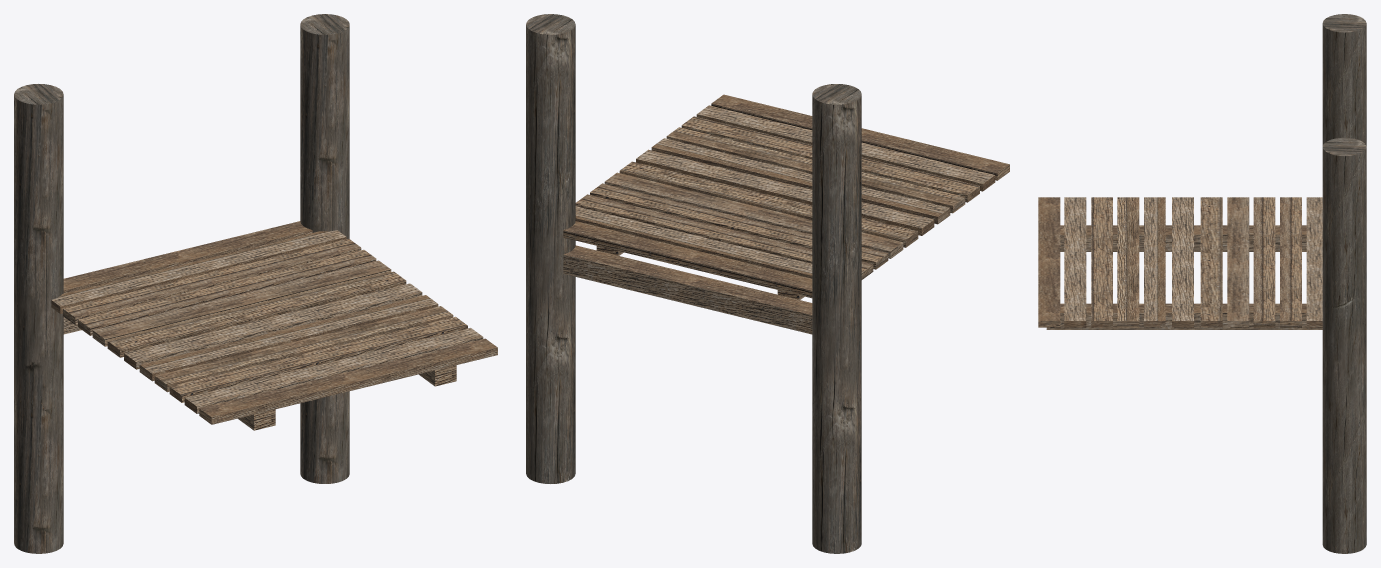
Rendered from puente(2 pilares).fbx.
3 views of the same model, side by side, from view 1: azimuth 30°, elevation 25°; view 2: azimuth 150°, elevation 25°; view 3: azimuth 270°, elevation 25° (orthographic). The views are drawn at different scales.
Visible parts, largest first — view 1: Cube.002, Cylinder.006, Cylinder.001; view 2: Cube.002, Cylinder.006, Cylinder.001, Cube.001; view 3: Cube.002, Cylinder.001, Cylinder.006.
Boxes of the visible parts, box(x1,y1,x2,y2) form: Cube.002: box(51, 221, 497, 430); Cylinder.006: box(14, 84, 63, 553); Cylinder.001: box(300, 14, 349, 483); Cube.002: box(563, 94, 1009, 299); Cylinder.006: box(812, 84, 861, 553); Cylinder.001: box(526, 14, 575, 483); Cube.001: box(563, 245, 812, 334); Cube.002: box(1038, 197, 1322, 329); Cylinder.001: box(1322, 137, 1366, 553); Cylinder.006: box(1322, 14, 1366, 146).
Bounding box in the file's own units: 460 × 600 × 449.
2 materials, 2 textured.
